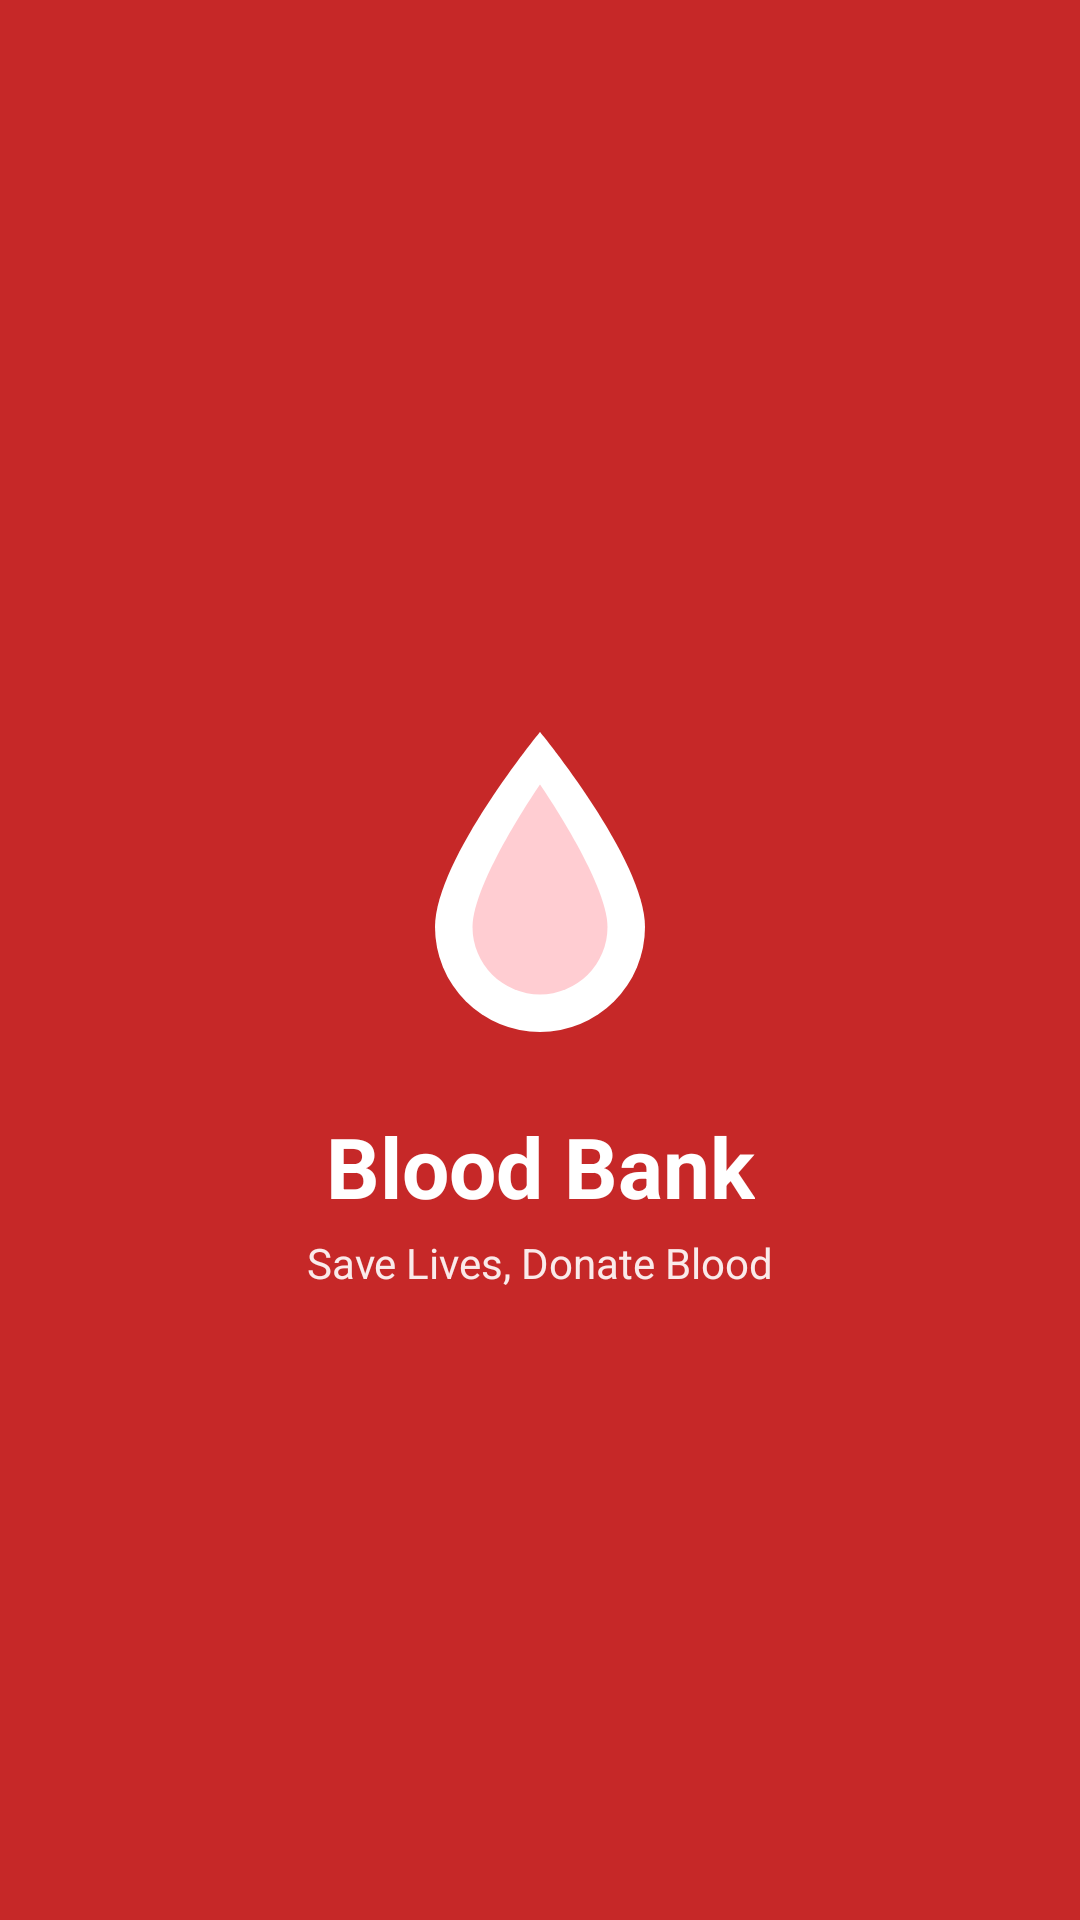

Named icons in this screenshot (1080 × 1920) and their bounding boxes, (x1, y1, x2, y2):
blood drop: (435, 732, 645, 1032)
